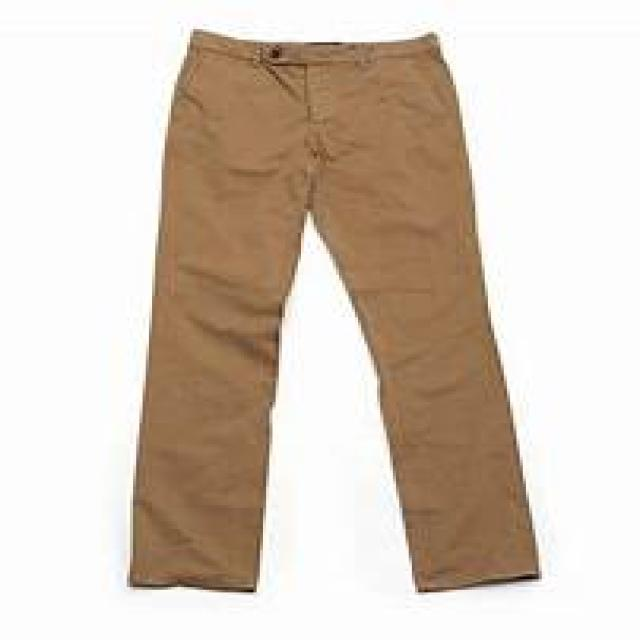long-pants: (121, 23, 539, 596)
